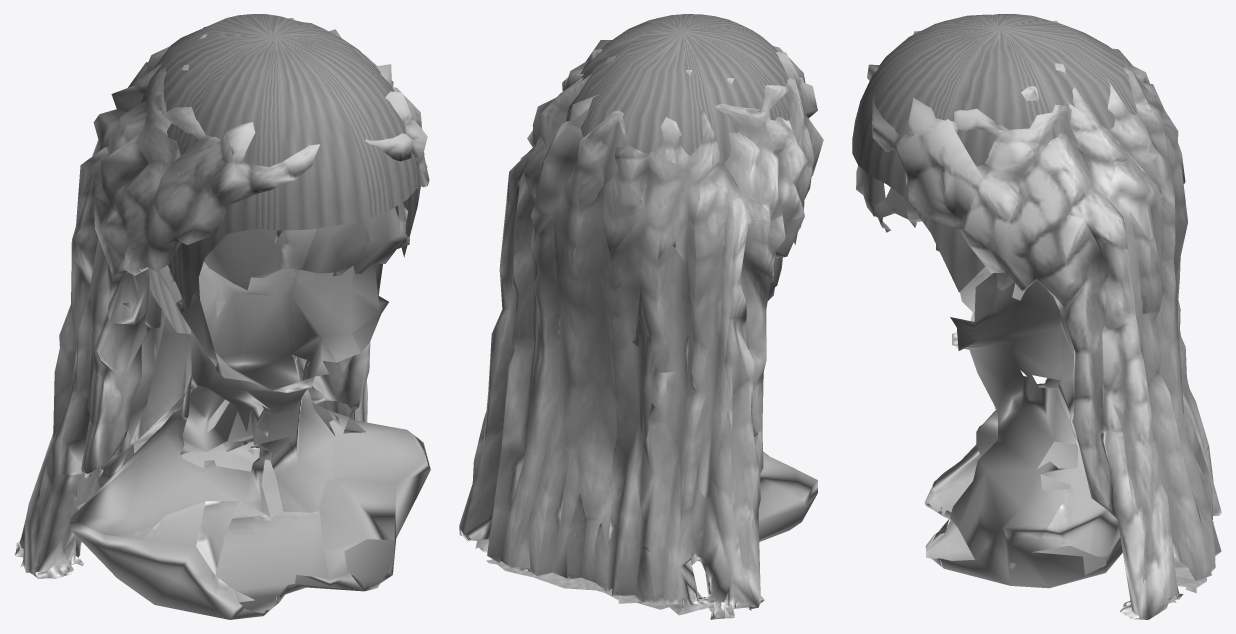
File: box-braids.glb
3 views of the same model, side by side, from view 1: azimuth 30°, elevation 25°; view 2: azimuth 150°, elevation 25°; view 3: azimuth 270°, elevation 25° (orthographic). The views are drawn at different scales.
Parts seen in each view (by area): view 1: box-braids; view 2: box-braids; view 3: box-braids.
Boxes of the visible parts, left/top/right/bottom form: box-braids: left=14, top=14, right=430, bottom=619; box-braids: left=459, top=14, right=823, bottom=619; box-braids: left=852, top=14, right=1221, bottom=619.
Bounding box in the file's own units: 0.2537 × 0.3911 × 0.254.
1 material, 1 textured.
